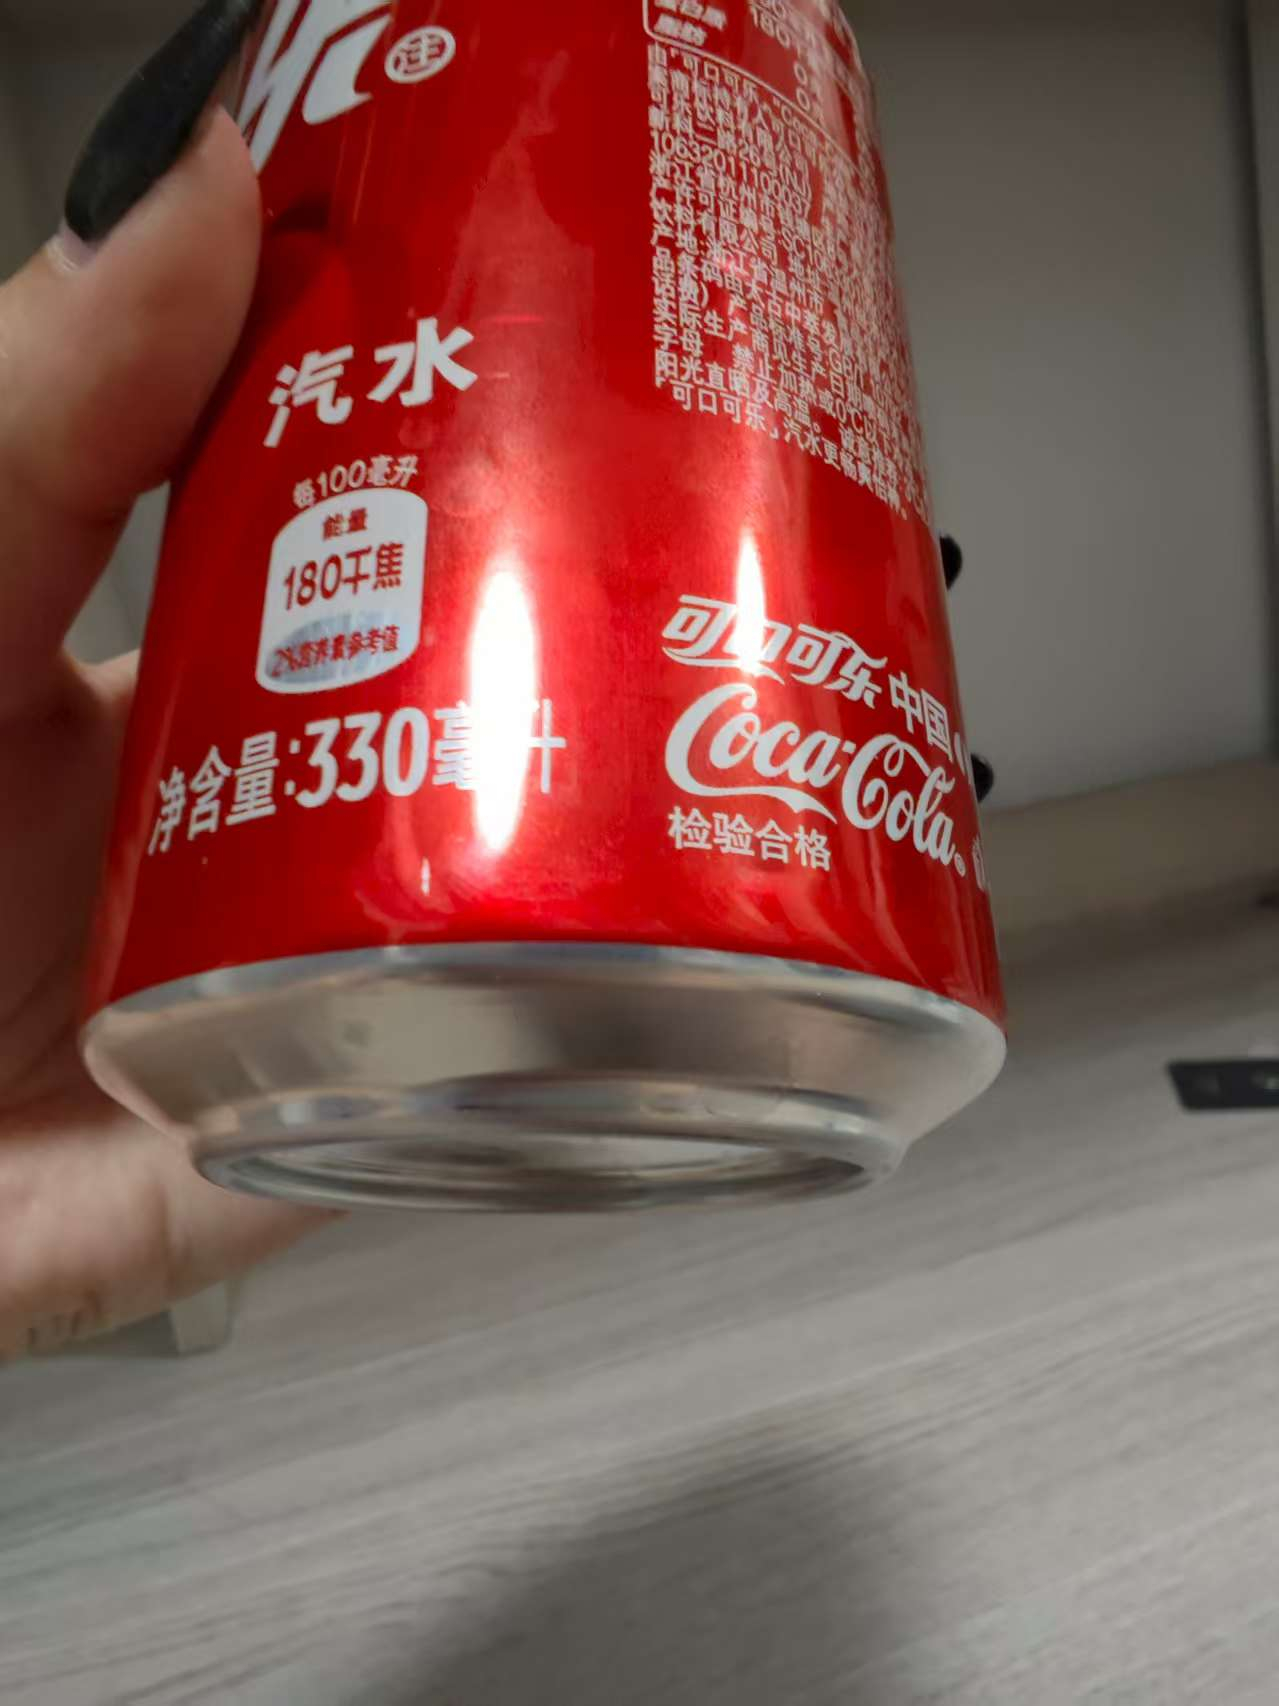可乐: (121, 16, 1051, 1234)
